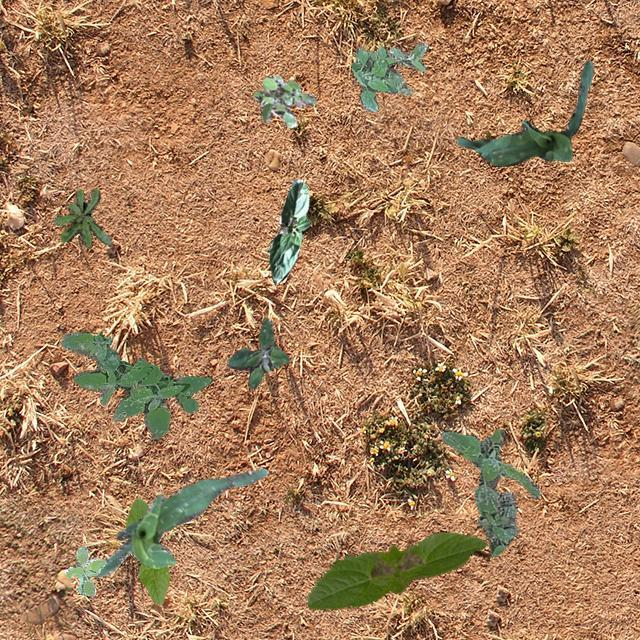crop: (95, 468, 268, 576), (456, 60, 592, 166), (306, 530, 487, 608), (124, 496, 168, 604), (266, 178, 308, 284)
weed: (60, 331, 212, 438), (440, 428, 540, 556), (350, 41, 428, 110), (226, 316, 288, 388), (52, 188, 110, 246), (252, 74, 316, 126), (64, 544, 104, 596)
